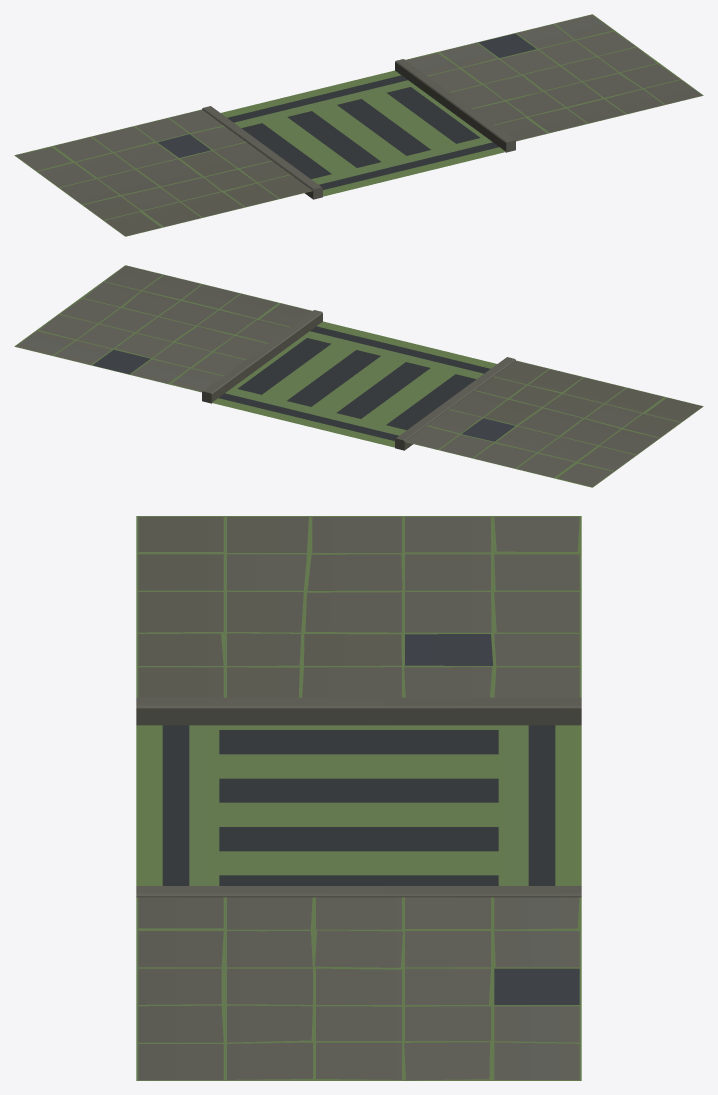
Rendered from Road_35.fbx.
3 views of the same model, one above another, from view 1: azimuth 30°, elevation 25°; view 2: azimuth 150°, elevation 25°; view 3: azimuth 270°, elevation 25° (orthographic). The views are drawn at different scales.
Visible parts, largest first — view 1: Road_35; view 2: Road_35; view 3: Road_35.
Boxes of the visible parts, box(x1,y1,x2,y2) form: Road_35: box(14, 14, 703, 236); Road_35: box(14, 265, 703, 487); Road_35: box(136, 516, 581, 1080).
Bounding box in the file's own units: 9 × 0.15 × 3.
